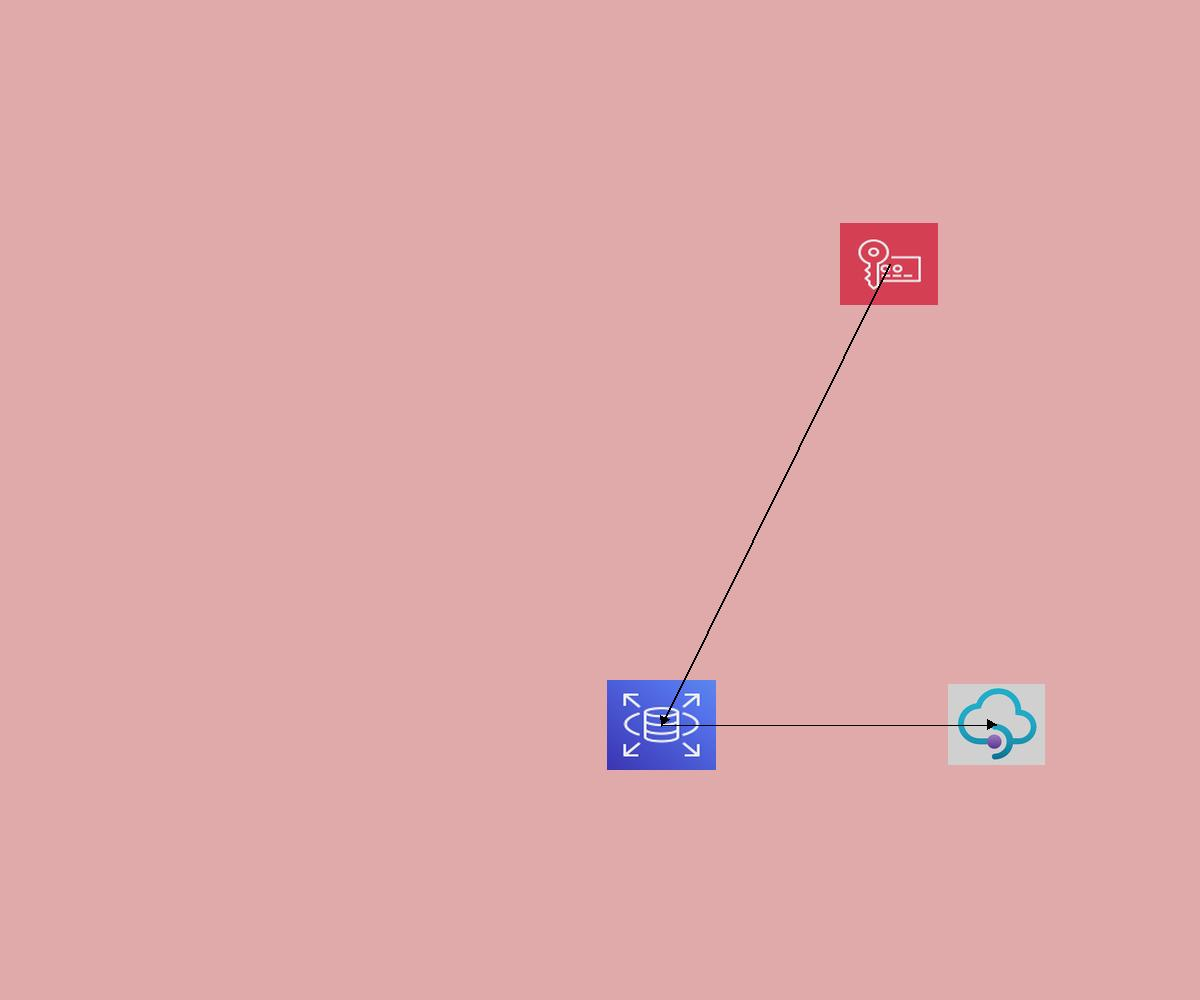AWS-Key-Management-Service: (840, 223, 938, 305)
AWS-RDS: (607, 680, 716, 770)
Azure_api_gateway: (948, 684, 1045, 765)
